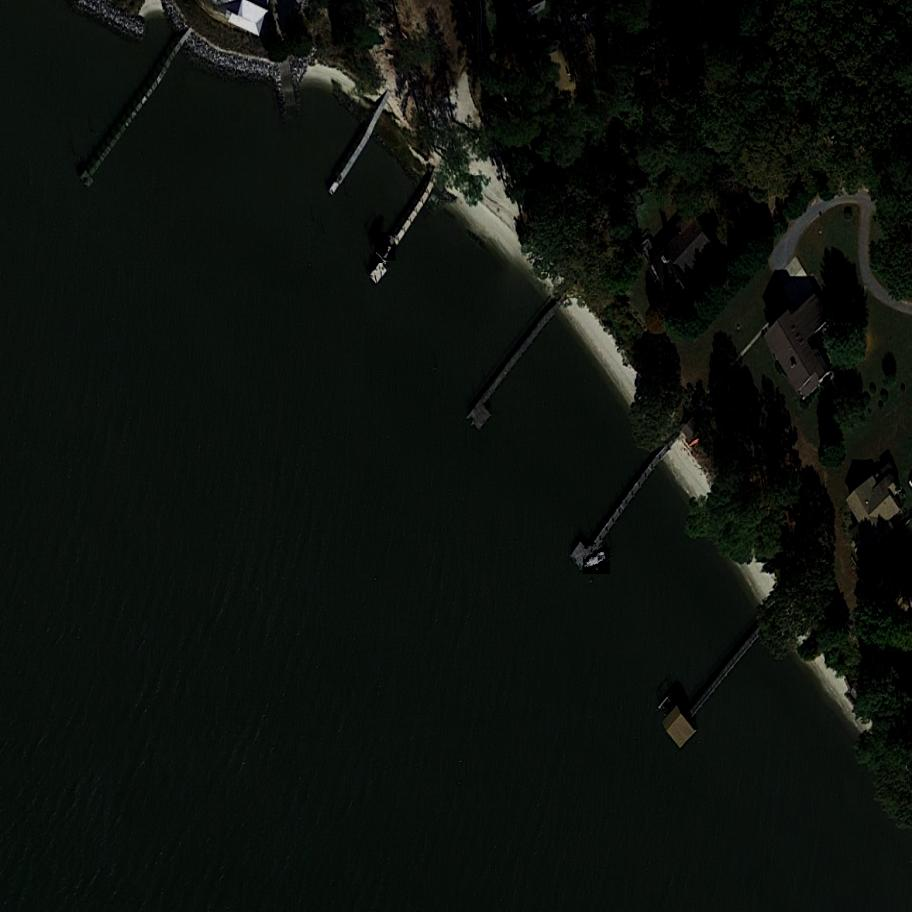ship: (581, 547, 615, 575), (376, 233, 397, 262)
